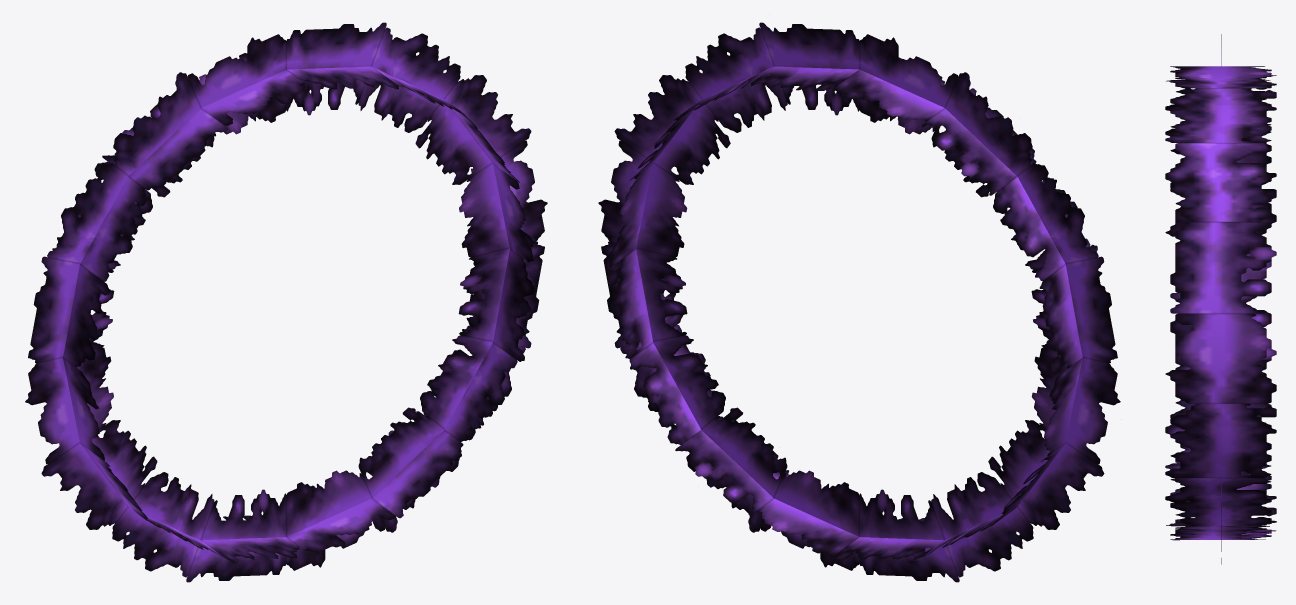
The picture shows the model from 3 angles, left to right: view 1: azimuth 30°, elevation 25°; view 2: azimuth 150°, elevation 25°; view 3: azimuth 270°, elevation 25°; orthographic projection. The views are drawn at different scales.
Parts seen in each view (by area): view 1: T1L9M003_25; view 2: T1L9M003_25; view 3: T1L9M003_25.
Boxes of the visible parts, x1=… form: T1L9M003_25: x1=25, y1=22, x2=547, y2=582; T1L9M003_25: x1=598, y1=22, x2=1120, y2=582; T1L9M003_25: x1=1165, y1=34, x2=1276, y2=564.
Bounding box in the file's own units: 2.83 × 2.83 × 0.5957.
